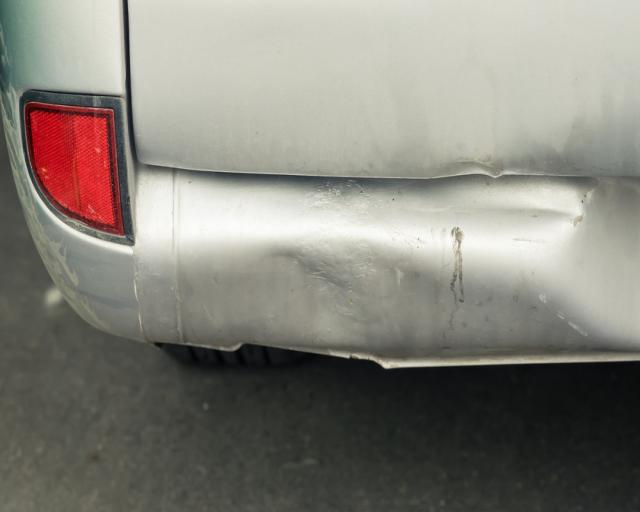dent: (260, 245, 439, 345), (552, 184, 640, 342)
